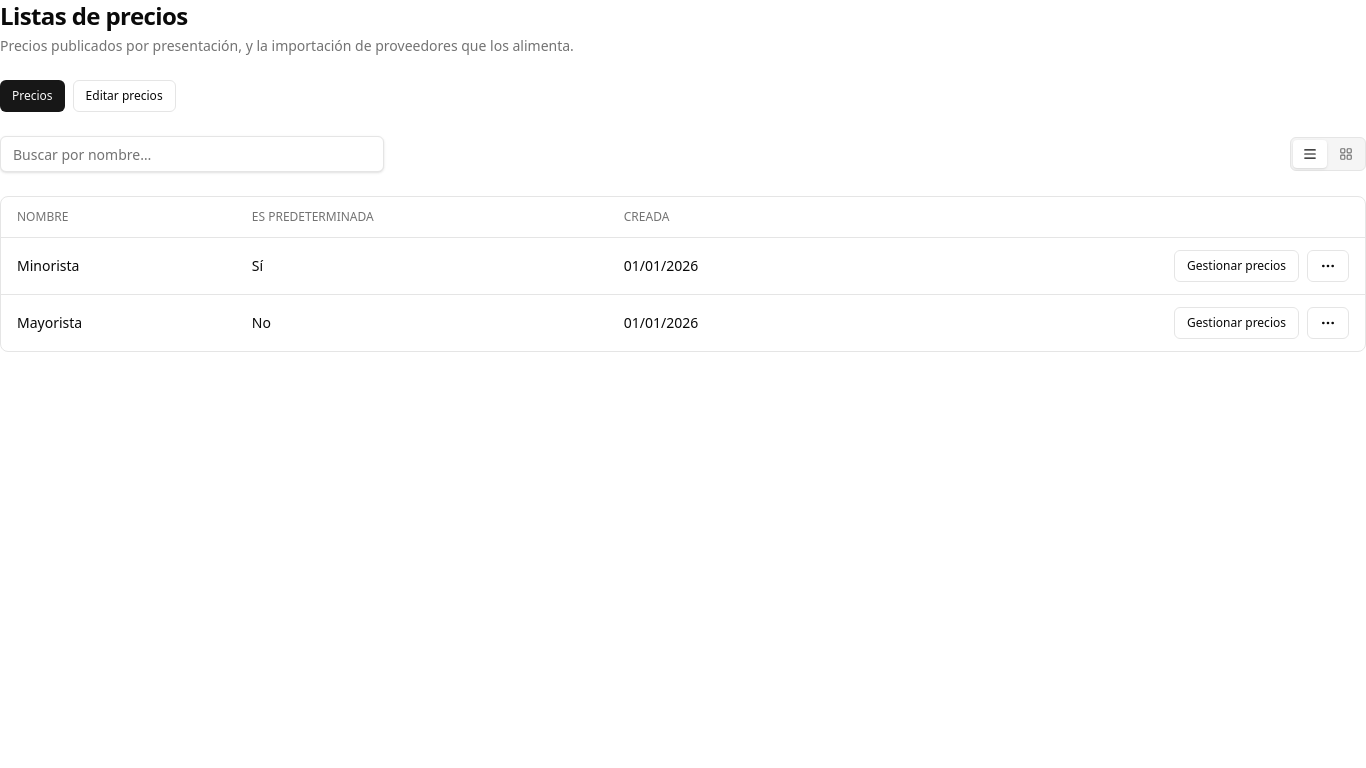
Test case: PriceListsScreen "Editar precios" tab › "Gestionar precios" opens the editor tab with that list preselected
The width and height of the screenshot is (1366, 768).
Click the button "Gestionar precios" in the row of "Mayorista".
click(1237, 323)  # box [1174,307,1299,339]
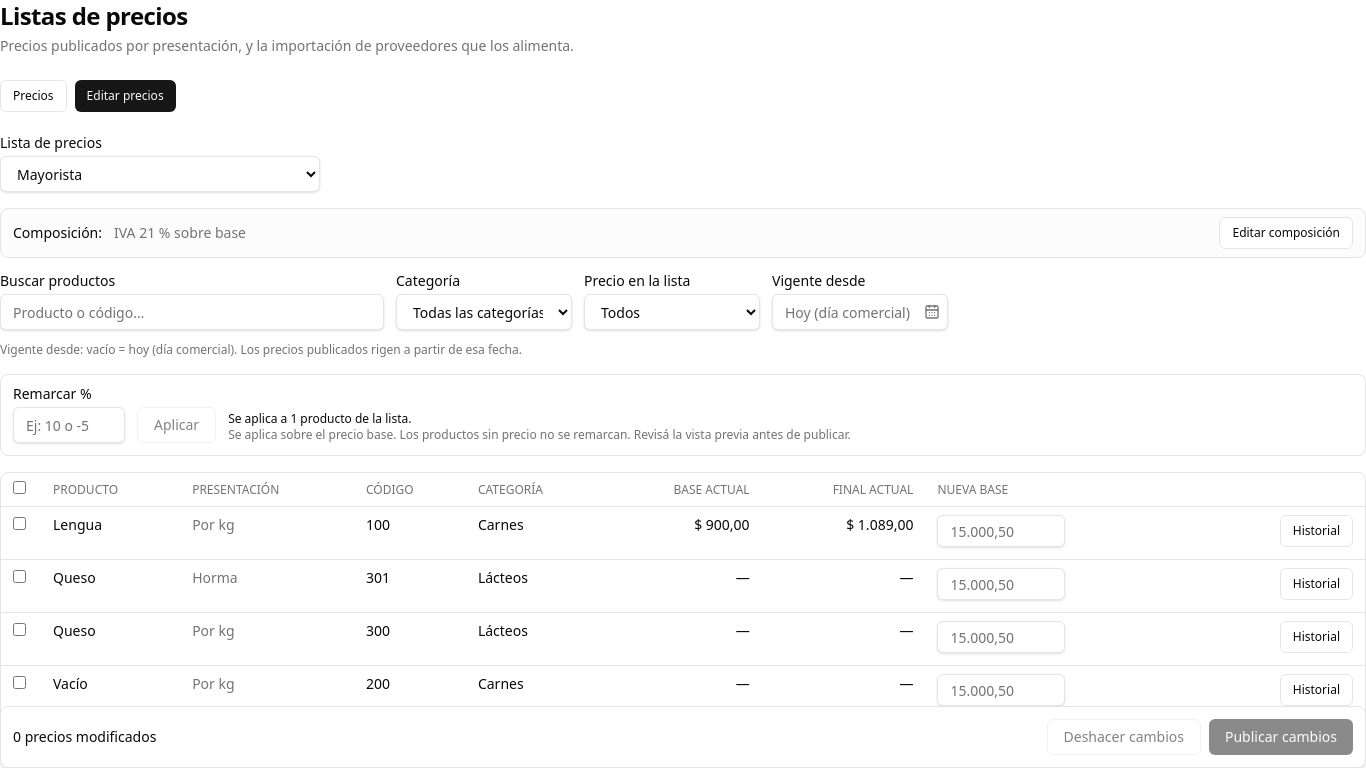
expect the dropdown labelled "Lista de precios" shows "Mayorista": met, box [0,156,320,192]
expect the text "Lengua" is shown: met, box [41,506,180,560]
